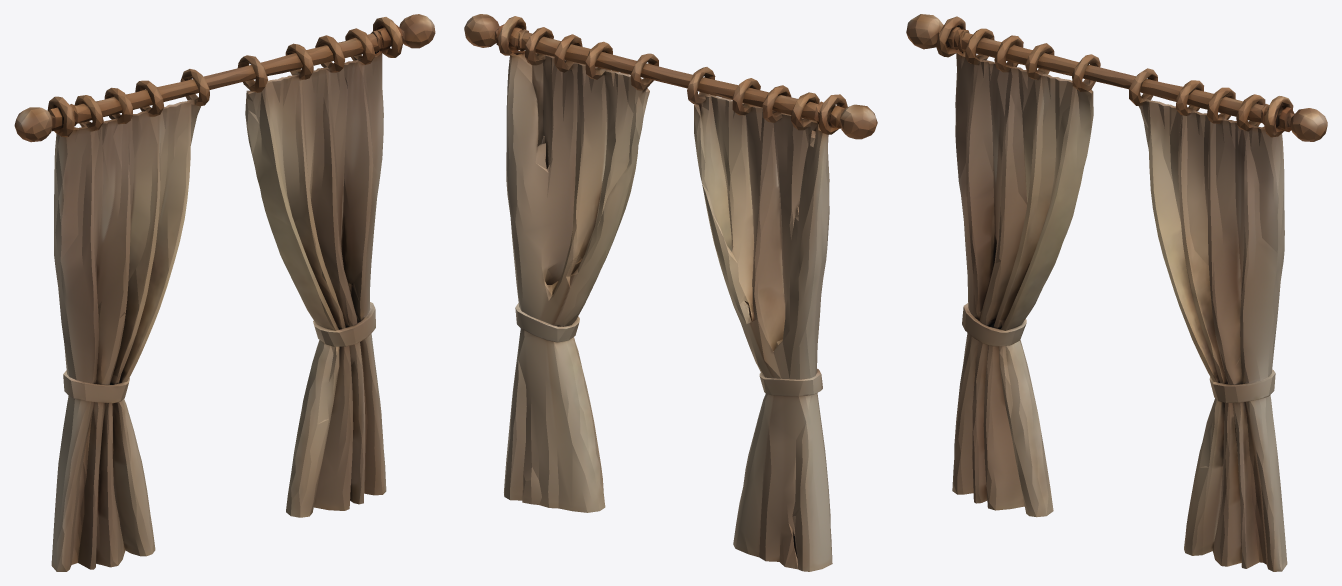
The model's file is curtain.glb.
The picture shows the model from 3 angles, left to right: view 1: azimuth 30°, elevation 25°; view 2: azimuth 150°, elevation 25°; view 3: azimuth 330°, elevation 25°; orthographic projection.
Visible parts, largest first — view 1: model; view 2: model; view 3: model.
Boxes of the visible parts, x1=… form: model: x1=14, y1=14, x2=435, y2=571; model: x1=464, y1=14, x2=877, y2=571; model: x1=906, y1=14, x2=1327, y2=571.
Size of the model in its own units: 1.73 by 1.88 by 0.2128.
1 material, 1 textured.
